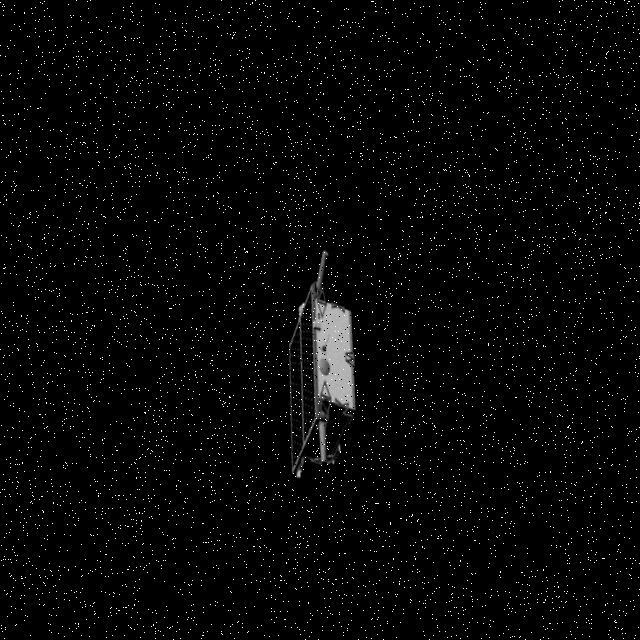medium_debris: (278, 238, 374, 490)
